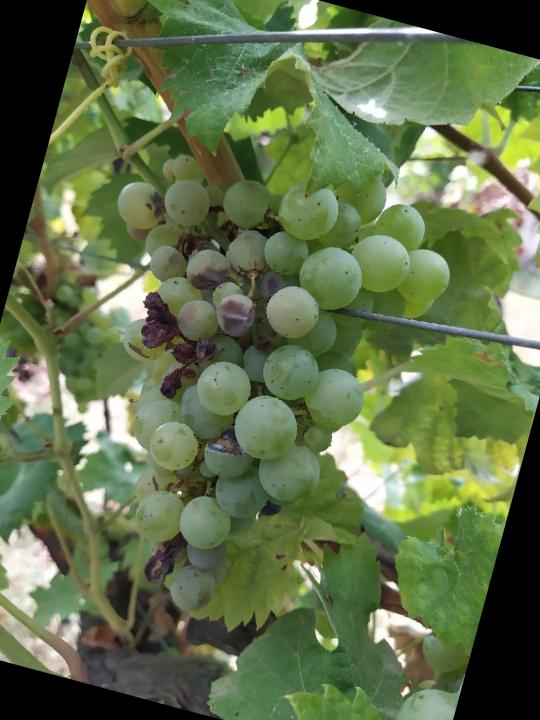grape: (16, 111, 474, 658)
